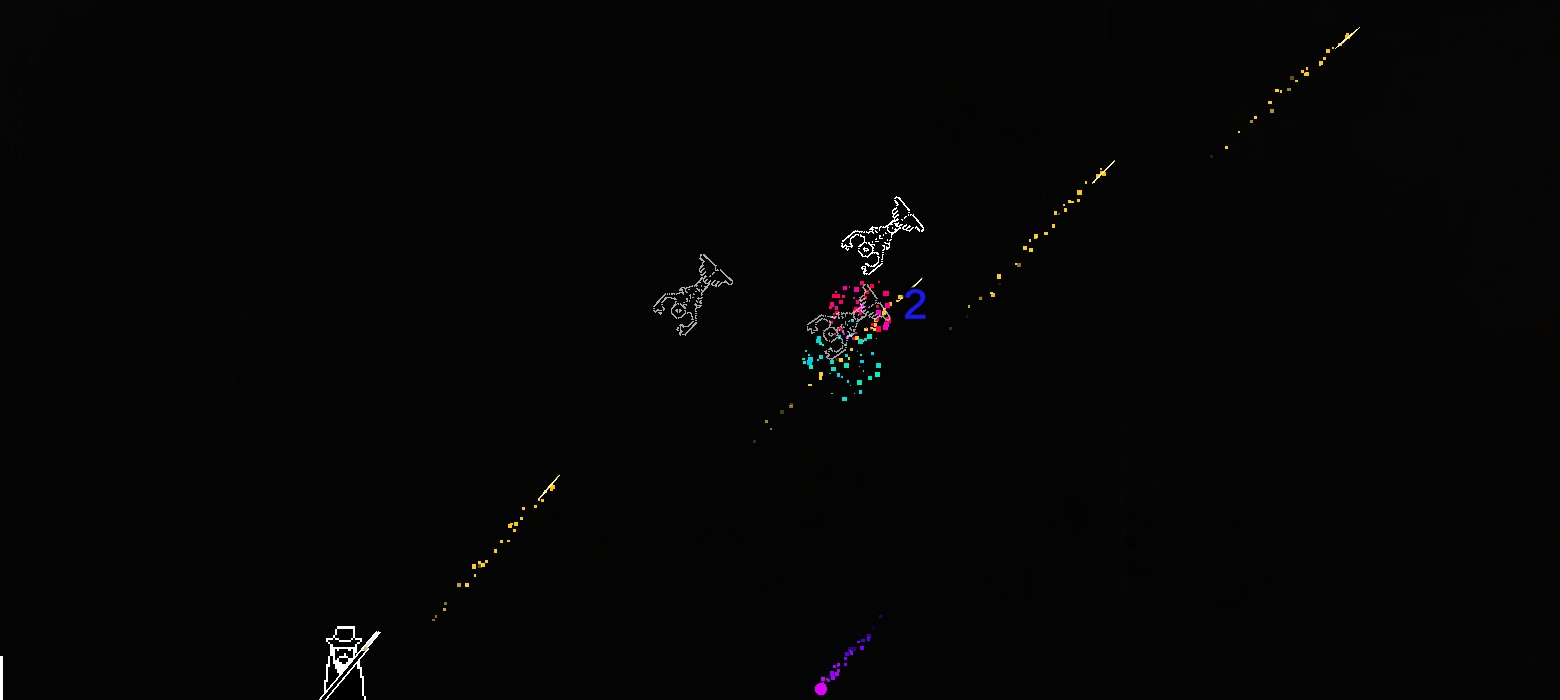enemy: (840, 195, 925, 276), (653, 254, 734, 336), (806, 283, 890, 360)
